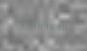eight: (35, 19, 40, 30)
four: (17, 17, 22, 29), (41, 19, 46, 31)
nine: (53, 20, 58, 32)
six: (47, 20, 52, 31)
three: (23, 18, 28, 29)
zero: (29, 18, 34, 30), (59, 21, 64, 32)
